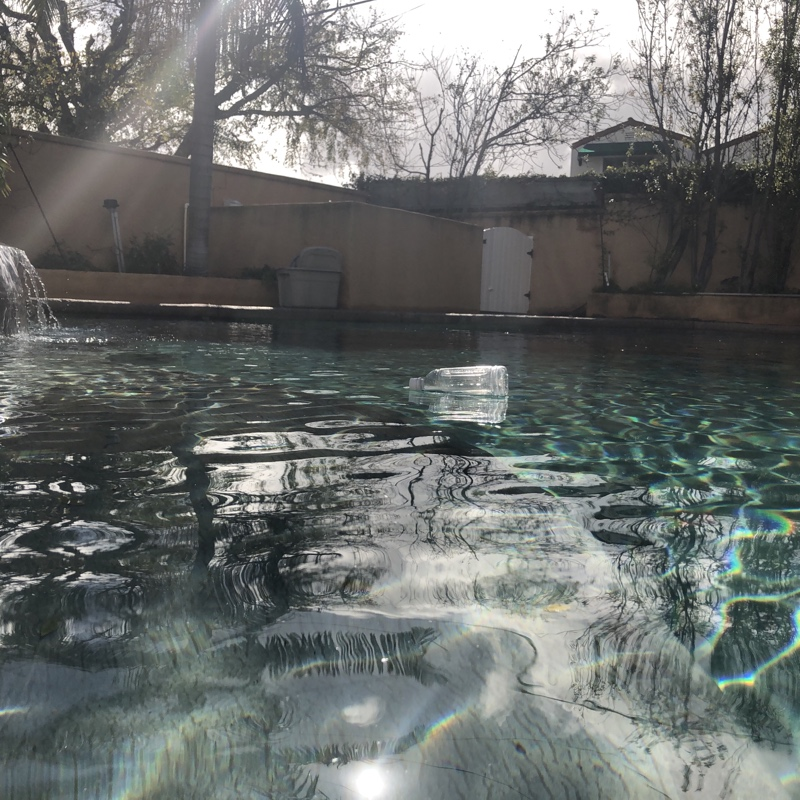Plastic Bottle: (399, 363, 510, 402)
